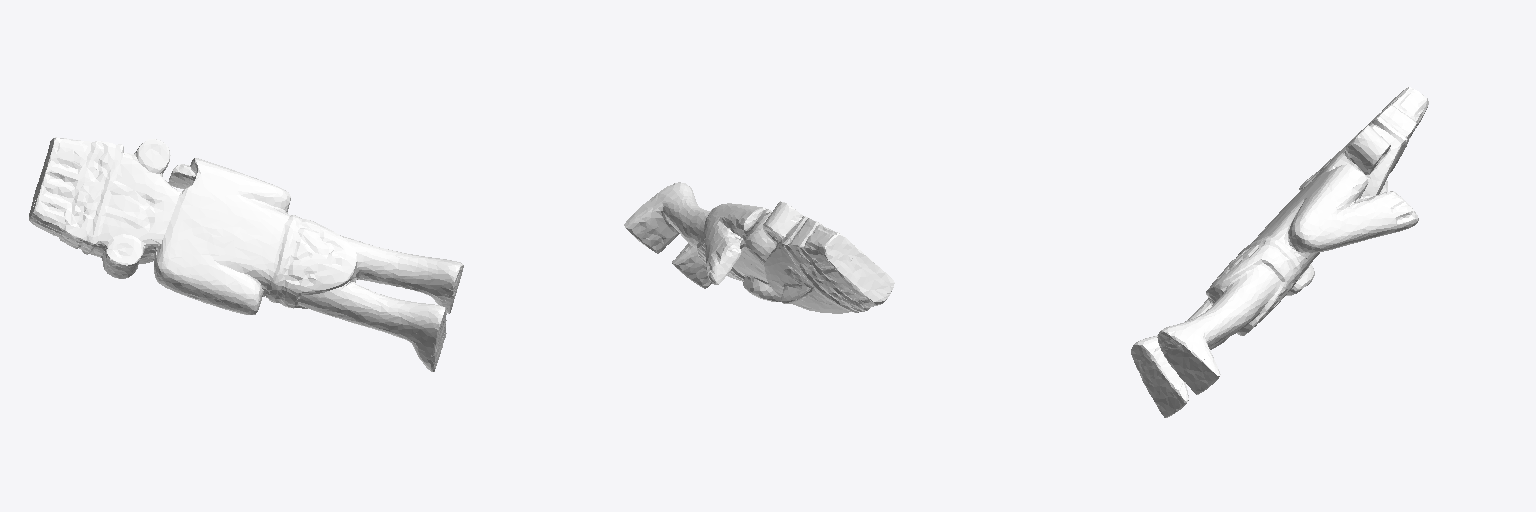
The model's file is idolo003.obj.
The picture shows the model from 3 angles: view 1: azimuth 30°, elevation 25°; view 2: azimuth 150°, elevation 25°; view 3: azimuth 270°, elevation 25°; orthographic projection.
Bounding box in the file's own units: 7.39 × 4.17 × 5.44.